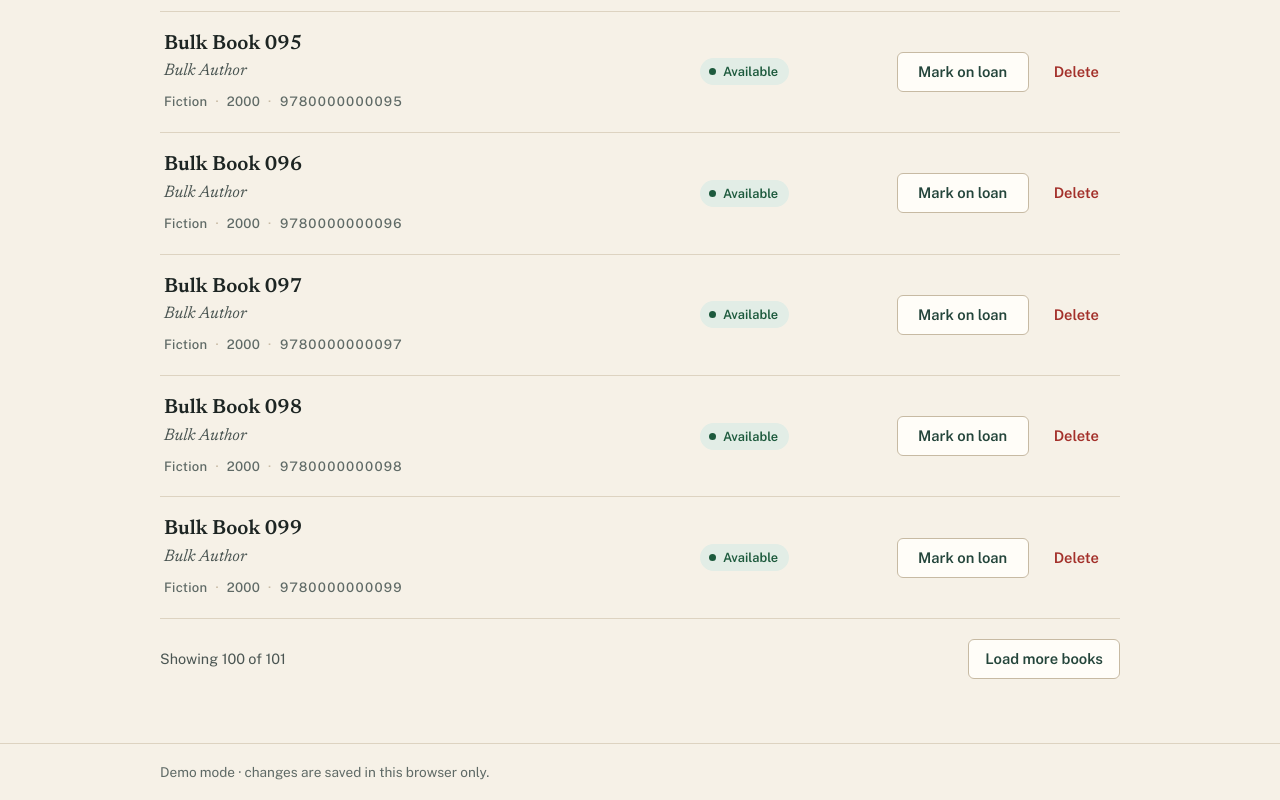
Test: CatalogPage › R-FE-01: reports a failed "load more"
(page scrolled)
Click the button with test id "load-more". click: (1044, 659)
box: [968, 639, 1120, 679]
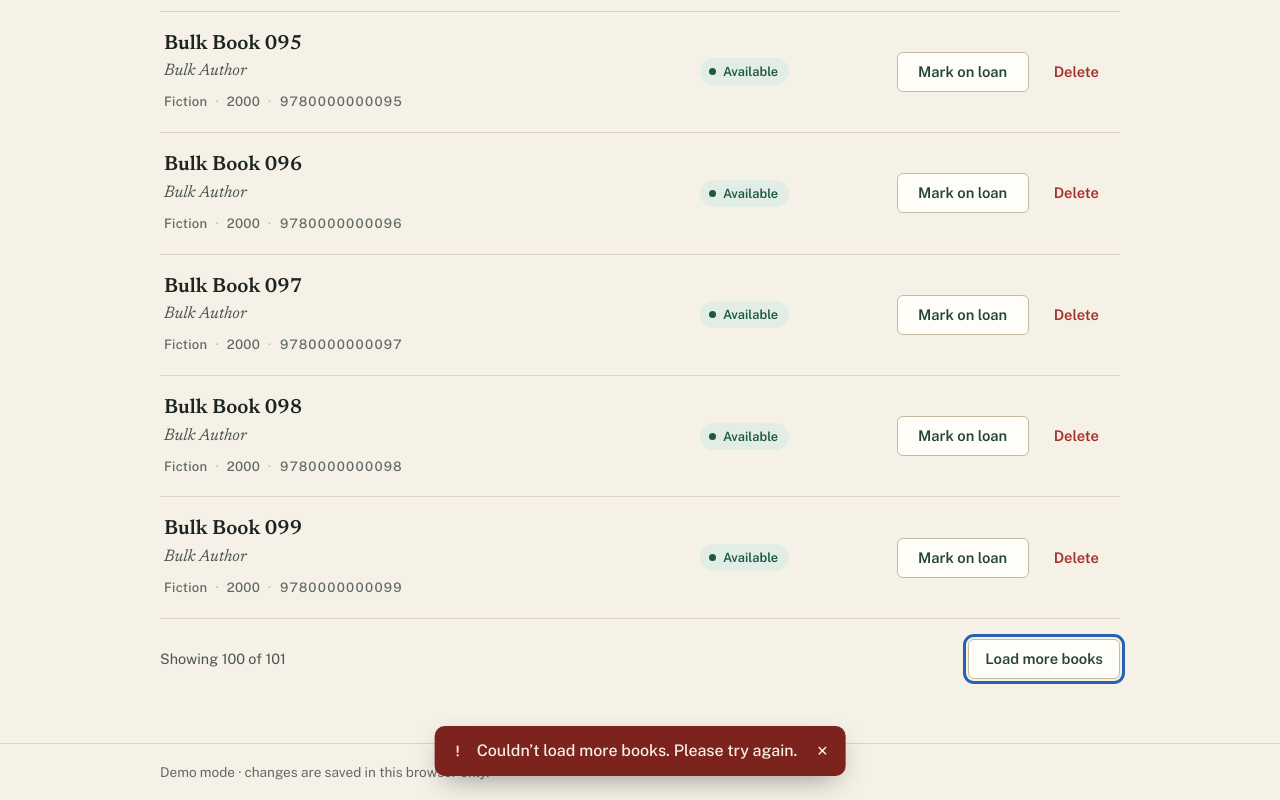
Now the message shows "Couldn’t load more books", box [477, 741, 797, 760]
